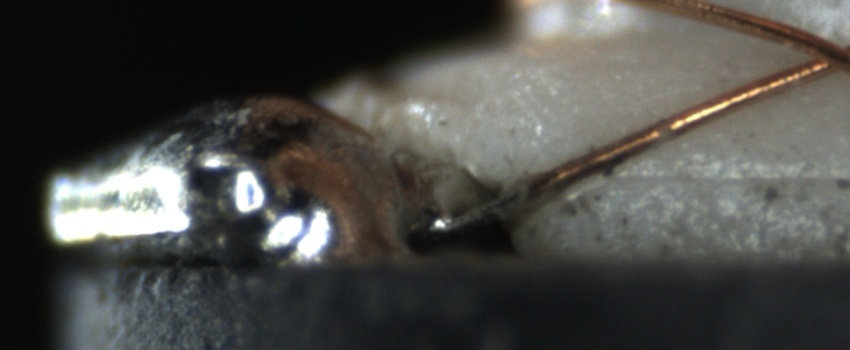CL: (777, 28, 848, 84)
DL: (612, 147, 850, 211)
TS: (434, 181, 526, 237)
